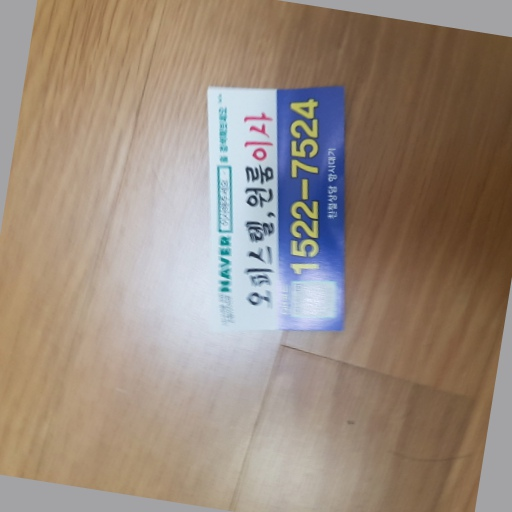Paper_2: (206, 78, 363, 335)
